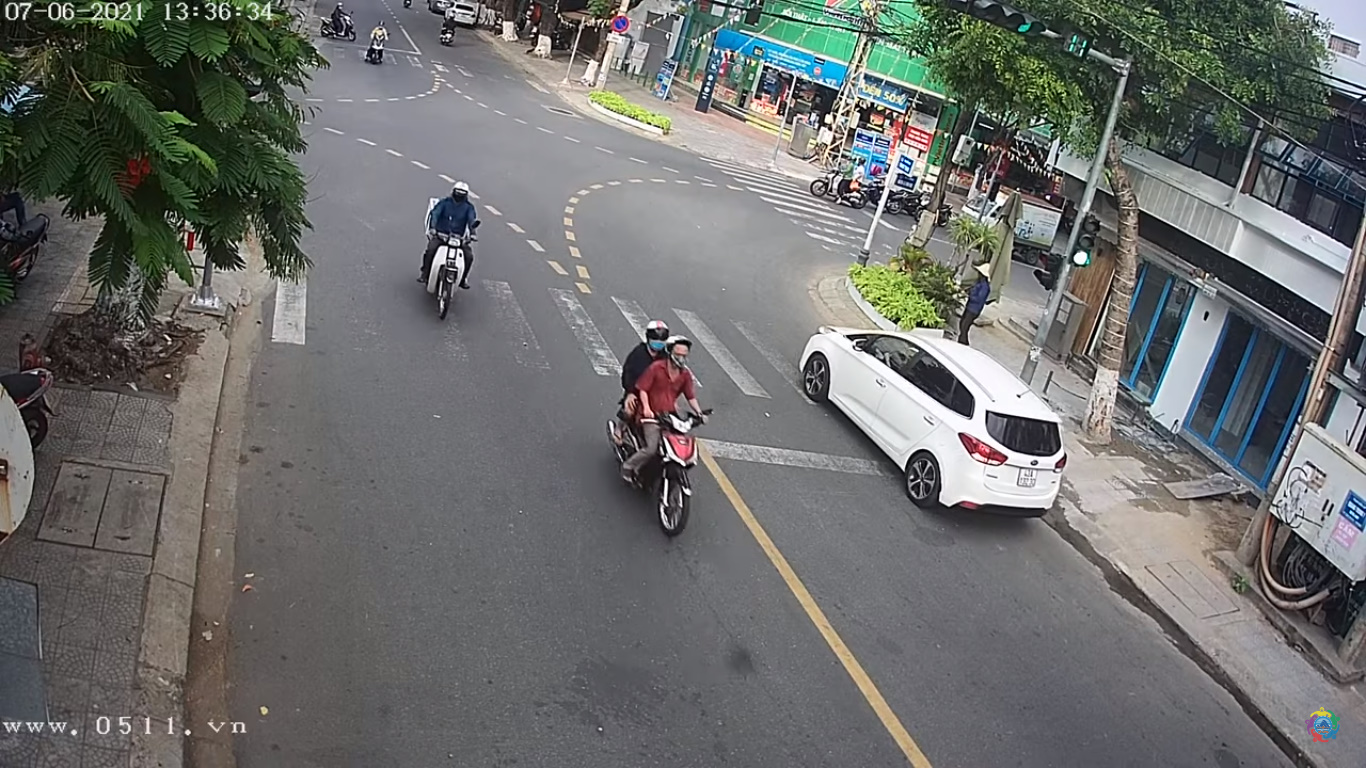car: (799, 317, 1071, 545)
